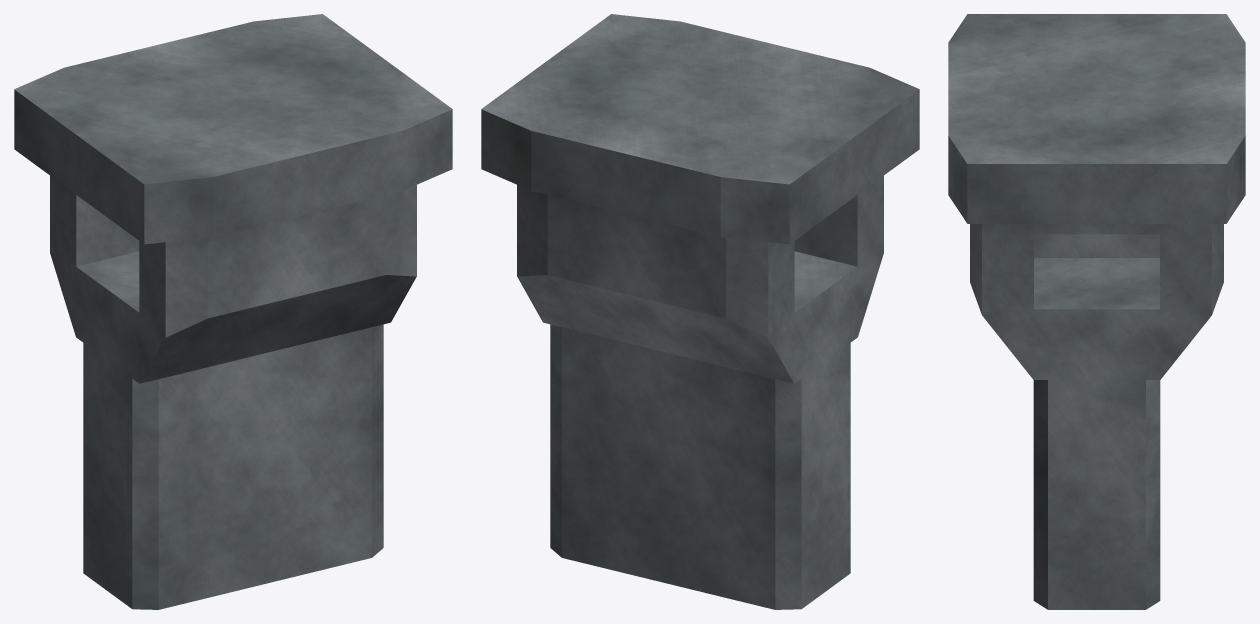
Rendered from torch.fbx.
3 views of the same model, side by side, from view 1: azimuth 30°, elevation 25°; view 2: azimuth 150°, elevation 25°; view 3: azimuth 270°, elevation 25° (orthographic).
Parts seen in each view (by area): view 1: detail_chimneyBase_0, detail_chimneyBase_1; view 2: detail_chimneyBase_0, detail_chimneyBase_1; view 3: detail_chimneyBase_1, detail_chimneyBase_0.
Boxes of the visible parts, bbox=[...] form: detail_chimneyBase_0: bbox=[14, 44, 307, 609]; detail_chimneyBase_1: bbox=[159, 14, 452, 583]; detail_chimneyBase_0: bbox=[626, 44, 919, 609]; detail_chimneyBase_1: bbox=[481, 14, 774, 583]; detail_chimneyBase_1: bbox=[948, 89, 1245, 609]; detail_chimneyBase_0: bbox=[948, 14, 1245, 88].
Bounding box in the file's own units: 7 × 10 × 5.87.
Materials: 1 (1 with a texture image).
